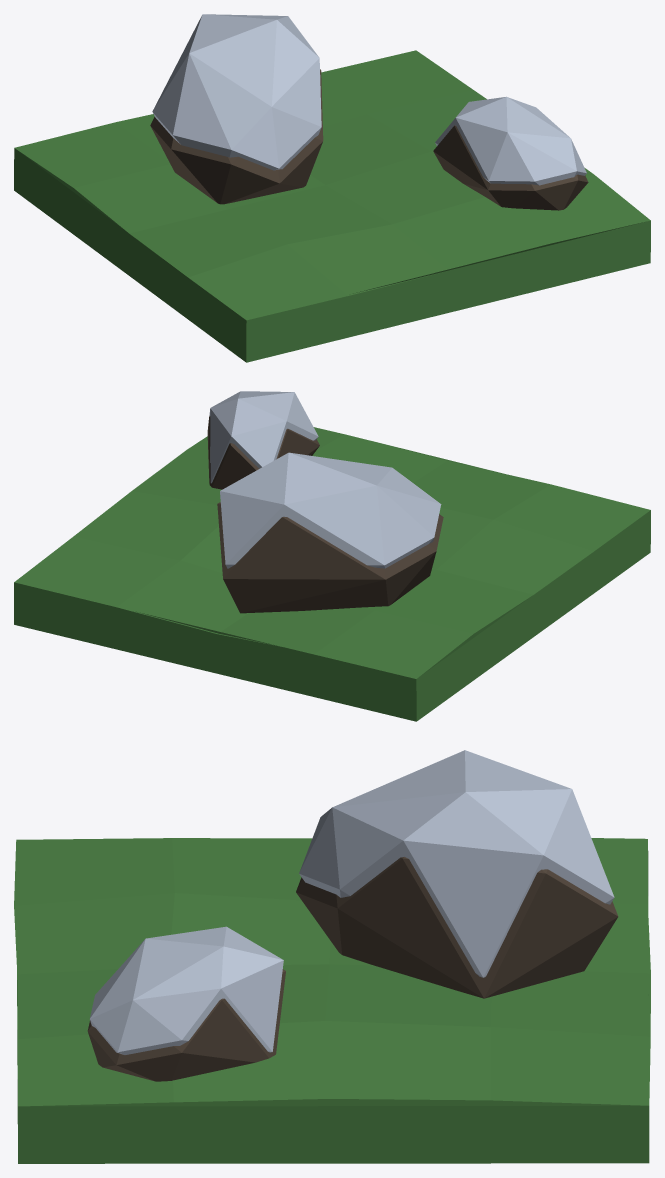
Rendered from Rock01.fbx.
3 renders of one model, top to bottom at view 1: azimuth 30°, elevation 25°; view 2: azimuth 150°, elevation 25°; view 3: azimuth 270°, elevation 25°, orthographic. The views are drawn at different scales.
Visible parts, largest first — view 1: Voxel, Icosphere.001, Icosphere.002; view 2: Voxel, Icosphere.001, Icosphere.002; view 3: Voxel, Icosphere.001, Icosphere.002.
Part boxes in pixels (x1,y1,x2,y2): Voxel: (14,50,650,362); Icosphere.001: (150,14,323,204); Icosphere.002: (433,96,588,210); Voxel: (14,427,650,721); Icosphere.001: (217,452,443,613); Icosphere.002: (207,391,319,489); Voxel: (14,838,650,1163); Icosphere.001: (296,750,618,998); Icosphere.002: (87,926,285,1081).
Size of the model in its own units: 201 by 82.15 by 202.
